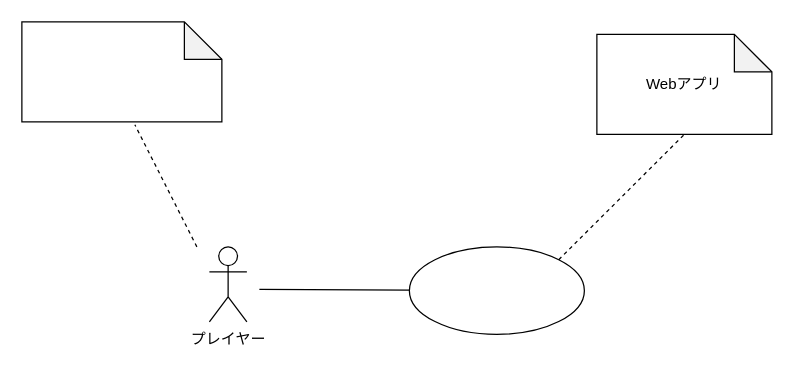
Image size: 794x370. Some labels were removed from this diagram. The centre of each missing label's shape, as x and y in pixels:
"リバーシアプリケーション" goes at (x=496, y=290).
"一人で黒白交互に打つ" goes at (x=121, y=71).
